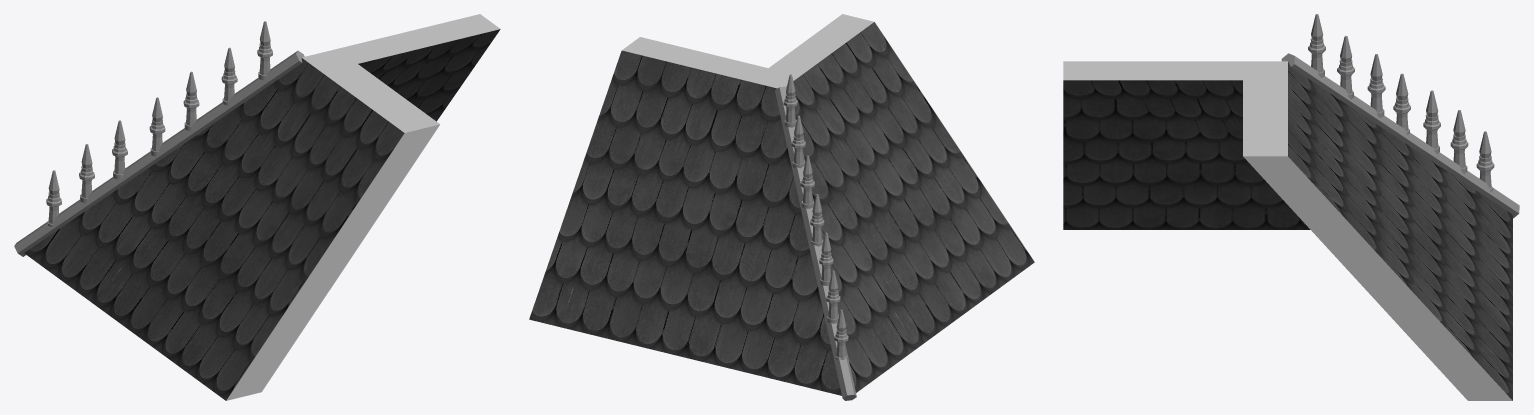
Rendered from SM_Roof_A_002.FBX.
3 renders of one model, left to right at view 1: azimuth 30°, elevation 25°; view 2: azimuth 150°, elevation 25°; view 3: azimuth 270°, elevation 25°, orthographic. The views are drawn at different scales.
Parts seen in each view (by area): view 1: SM_Roof_A_002; view 2: SM_Roof_A_002; view 3: SM_Roof_A_002.
Part boxes in pixels (x1,y1,x2,y2): SM_Roof_A_002: (14,14,500,400); SM_Roof_A_002: (529,14,1034,400); SM_Roof_A_002: (1063,14,1519,400).
Size of the model in its own units: 507 by 349 by 507.
